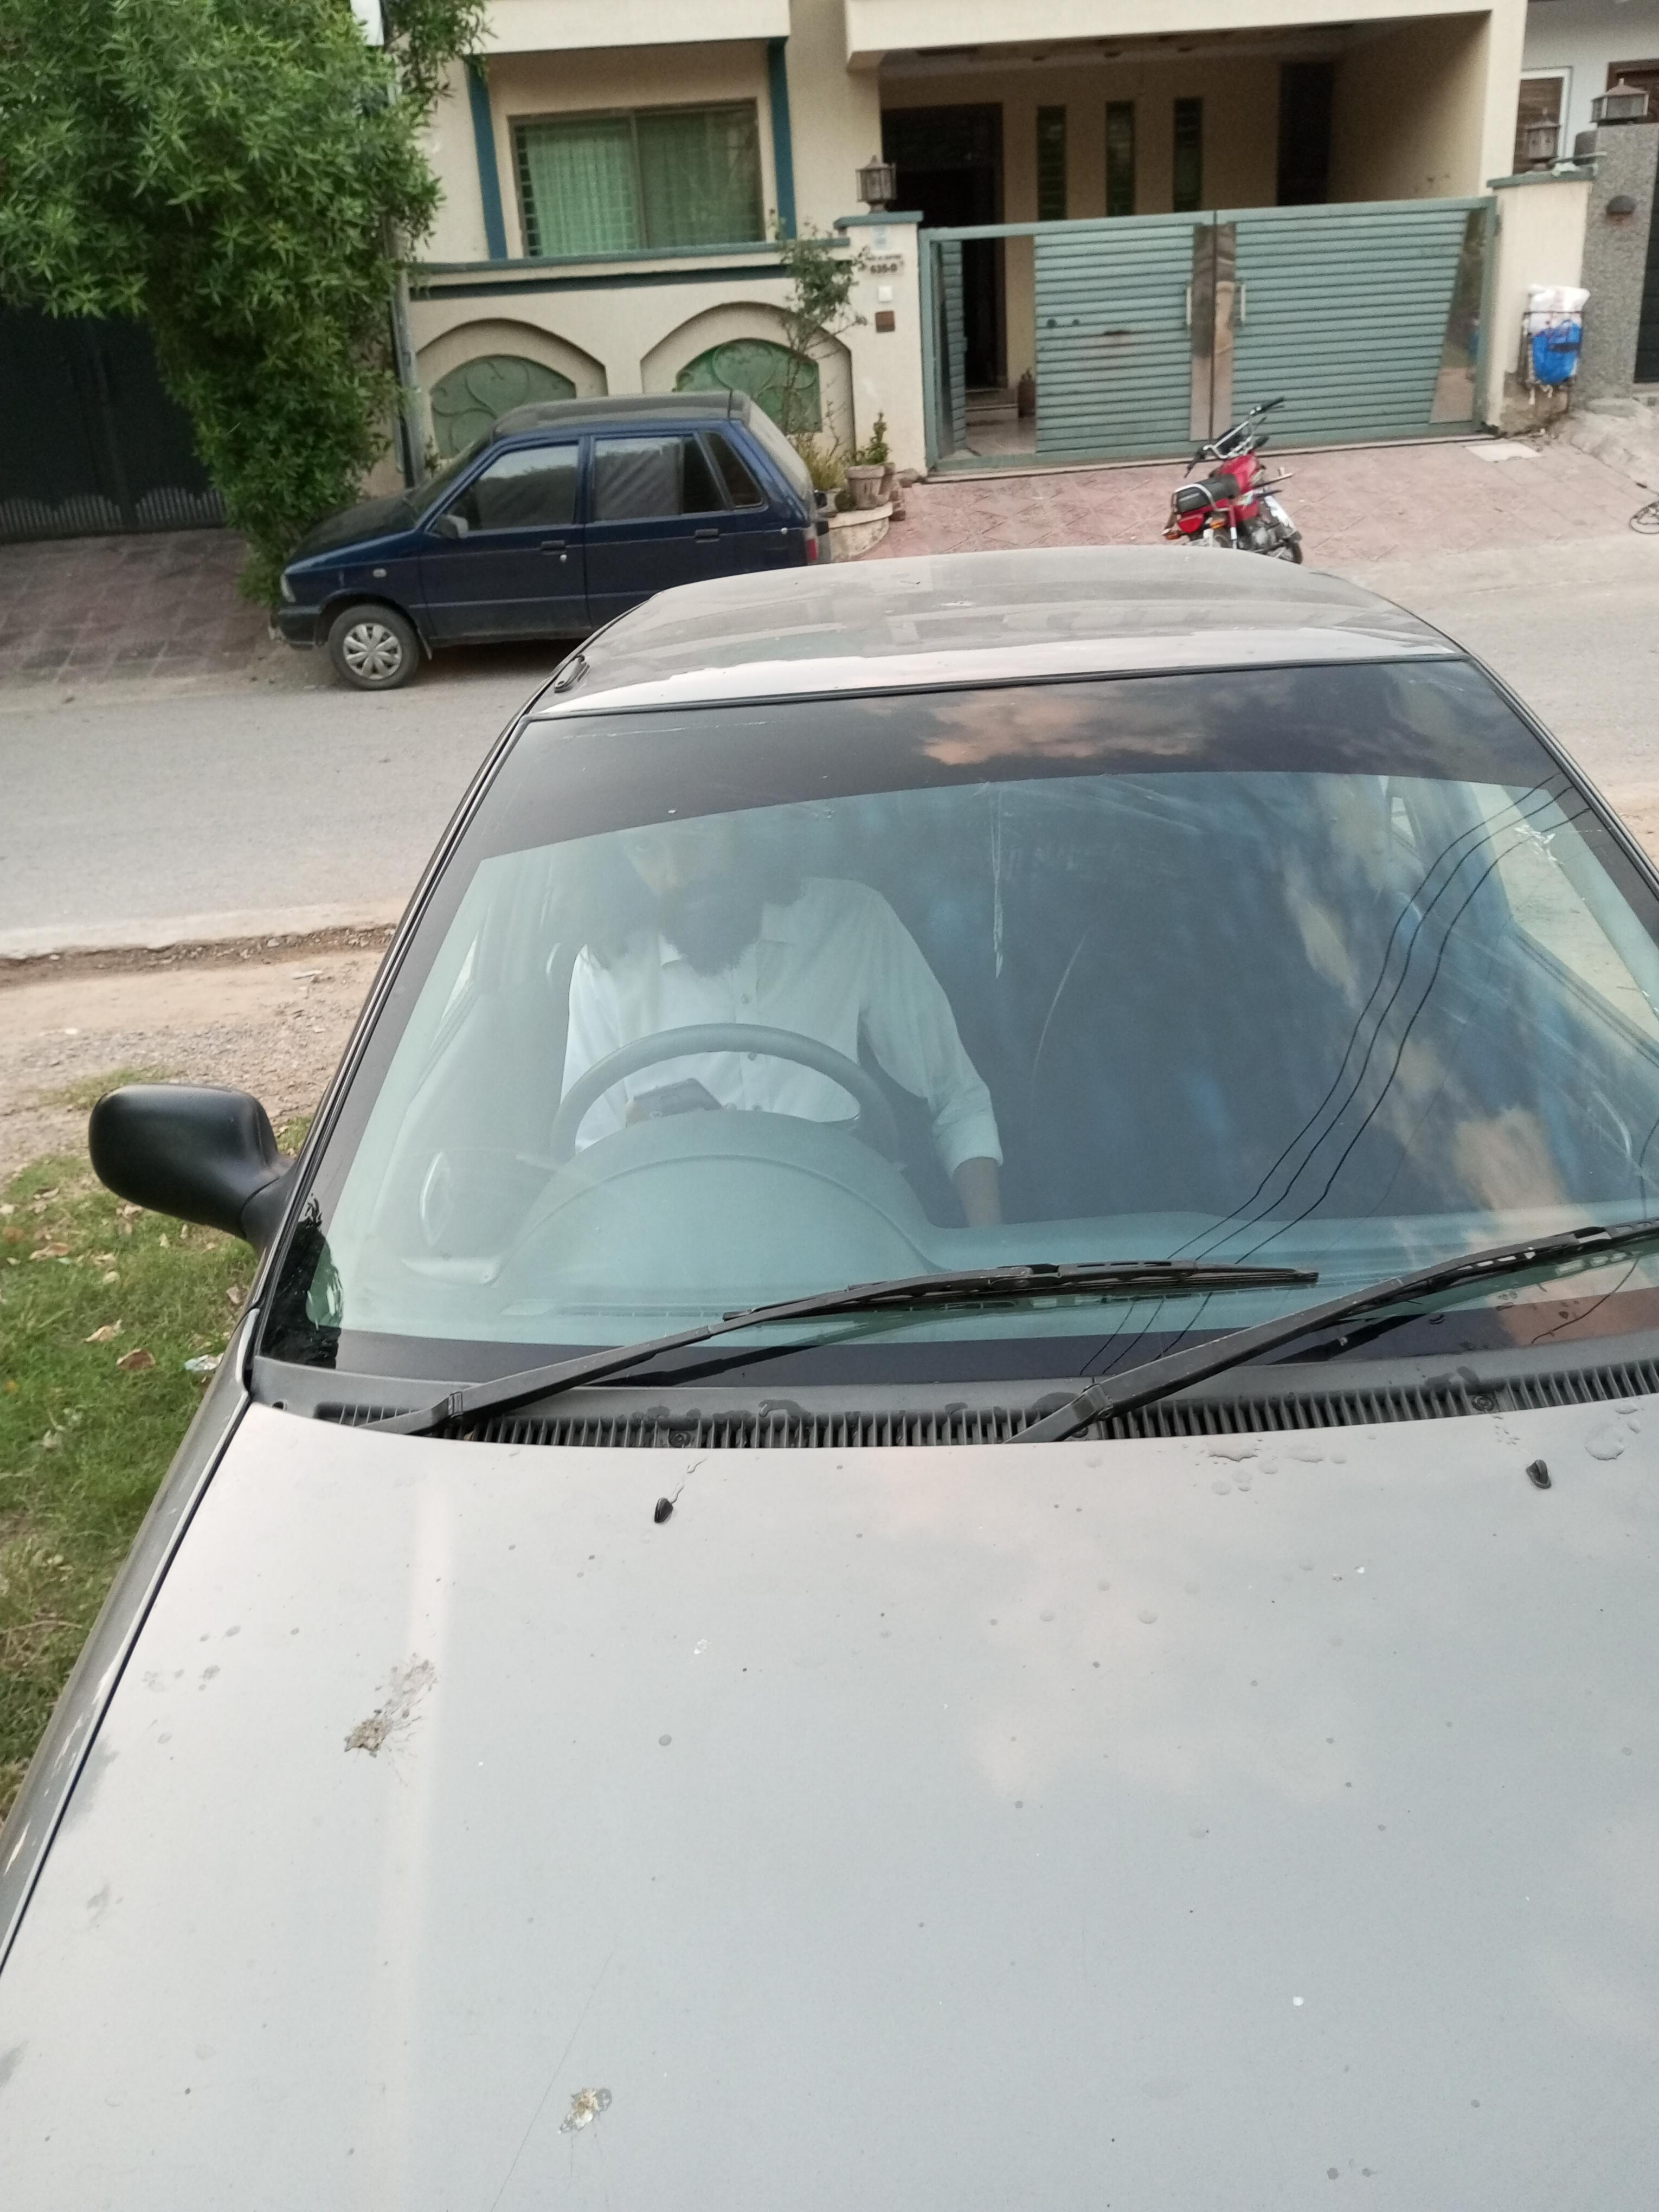windshield: (202, 651, 1659, 1453)
